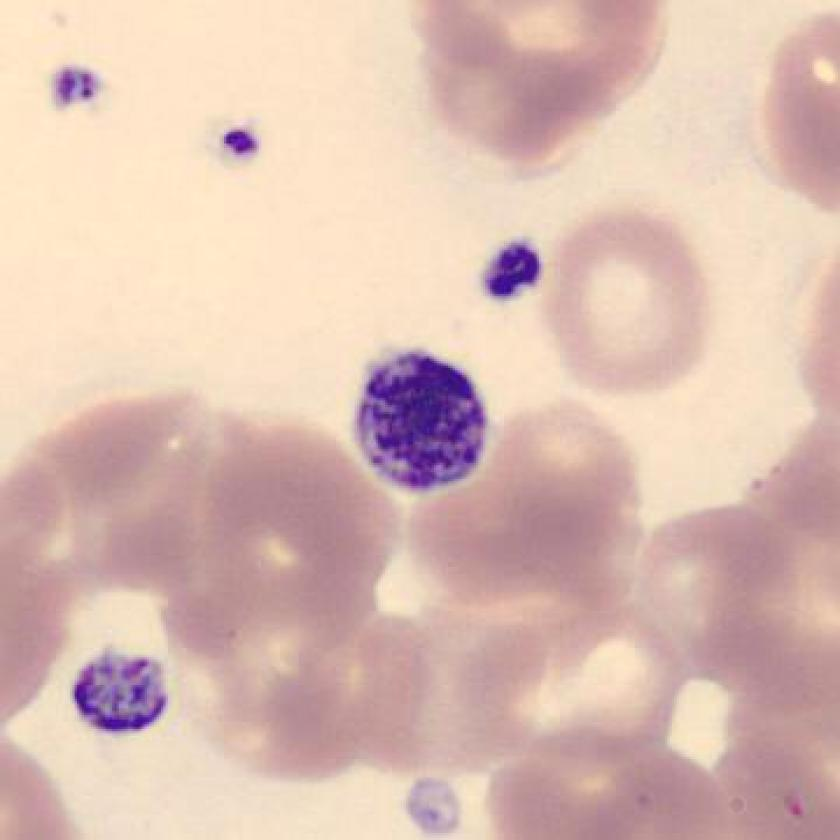platelets: (346, 334, 496, 503), (62, 640, 183, 751), (468, 226, 556, 321), (395, 767, 477, 839), (43, 52, 118, 128), (211, 117, 272, 179)
